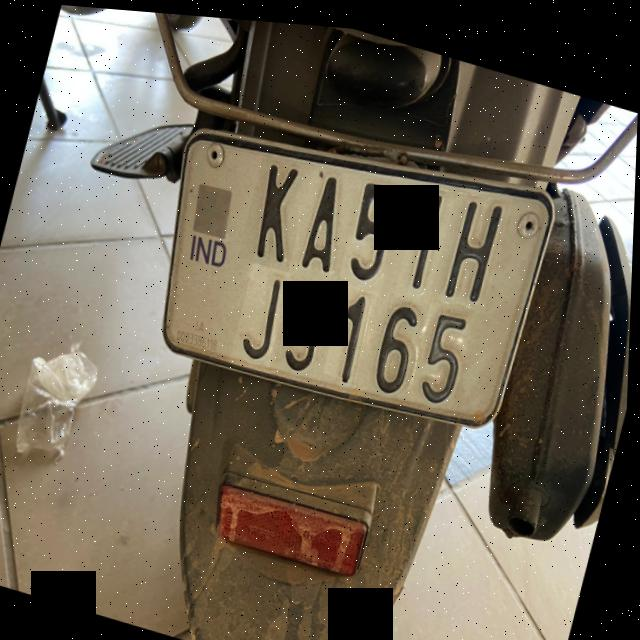1: (395, 182, 455, 300), (324, 276, 380, 379)
3: (273, 272, 336, 375)
5: (339, 167, 407, 292), (409, 295, 477, 408)
6: (366, 286, 431, 406)
A: (294, 158, 363, 277)
H: (440, 176, 514, 306)
J: (231, 257, 294, 369)
K: (238, 144, 316, 268)
